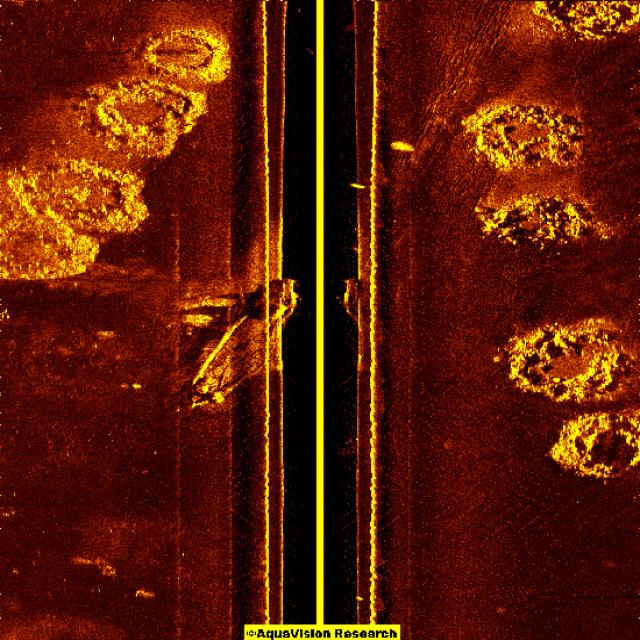shipwreck: (182, 273, 302, 411)
